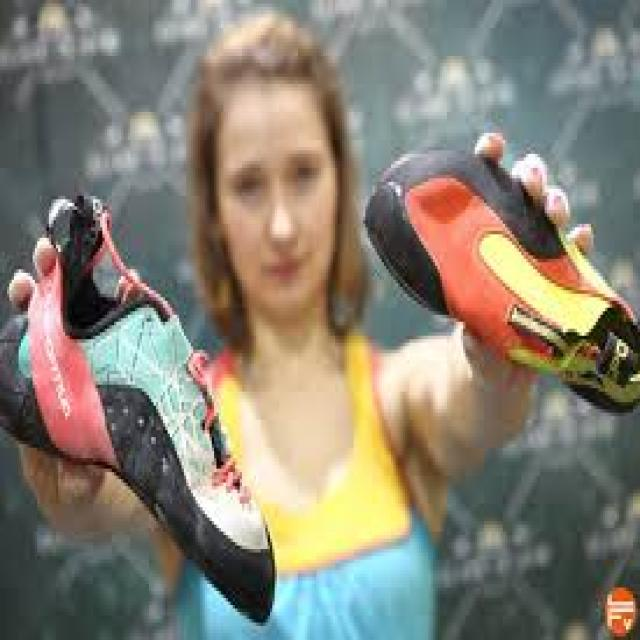climbing-shoes: (2, 194, 278, 624), (364, 146, 639, 409)
